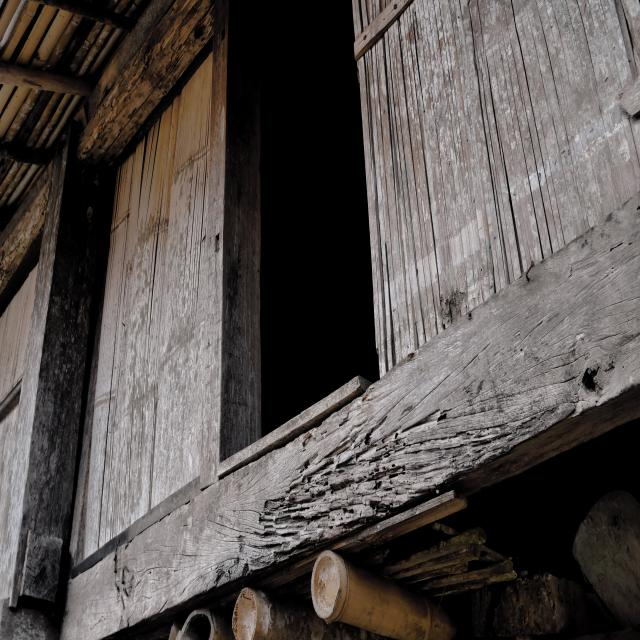Pintu: (222, 1, 381, 466)
Tembok Bangunan: (0, 1, 640, 640)
